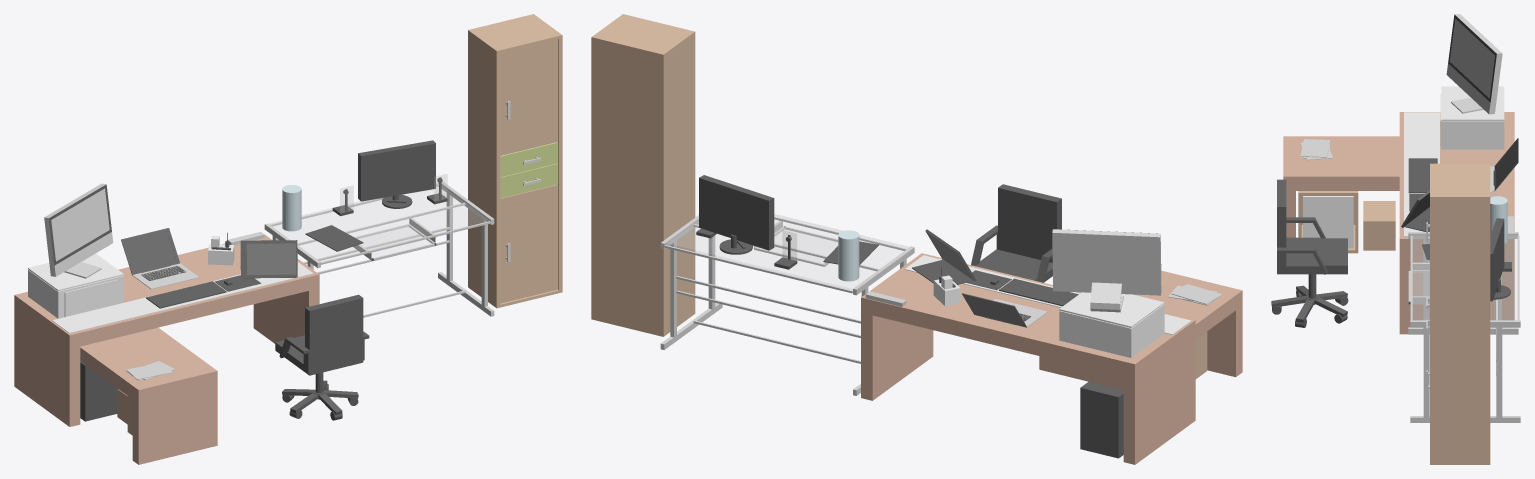
Rendered from studyroom2.glb.
The picture shows the model from 3 angles, left to right: view 1: azimuth 30°, elevation 25°; view 2: azimuth 150°, elevation 25°; view 3: azimuth 270°, elevation 25°; orthographic projection. The views are drawn at different scales.
Visible parts, largest first — view 1: Cube.078, Cube, Cube.023, Cube.008, Cube.080, Cube.001, Cube.004, Cube.003, PetitEcran, Cube.127, iMac, Cube.012 (+22 smaller); view 2: Cube.076, Cube, Cube.078, iMac, Cube.003, Cube.023, Cube.002, PetitEcran, Cube.001, Cube.127, Cube.007, Cube.016 (+15 smaller); view 3: Cube.084, Cube.001, Cube, Cube.023, iMac, Cube.002, Cube.012, Cube.069, Cube.083, Cube.128, Cube.007, Cube.017 (+22 smaller).
Part boxes in pixels (x1=…): Cube.078: x1=468, y1=31, x2=500, y2=305; Cube: x1=14, y1=234, x2=319, y2=348; Cube.023: x1=269, y1=182, x2=490, y2=262; Cube.008: x1=500, y1=184, x2=558, y2=303; Cube.080: x1=500, y1=39, x2=558, y2=155; Cube.001: x1=80, y1=327, x2=217, y2=403; Cube.004: x1=132, y1=384, x2=217, y2=464; Cube.003: x1=14, y1=309, x2=80, y2=426; PetitEcran: x1=358, y1=140, x2=435, y2=201; Cube.127: x1=305, y1=294, x2=363, y2=367; iMac: x1=44, y1=183, x2=109, y2=276; Cube.012: x1=52, y1=262, x2=313, y2=333; Cube.076: x1=595, y1=38, x2=659, y2=332; Cube: x1=861, y1=253, x2=1195, y2=379; Cube.078: x1=659, y1=35, x2=695, y2=333; iMac: x1=1052, y1=229, x2=1161, y2=295; Cube.003: x1=1123, y1=335, x2=1195, y2=464; Cube.023: x1=666, y1=214, x2=908, y2=290; Cube.002: x1=861, y1=312, x2=933, y2=400; PetitEcran: x1=699, y1=175, x2=774, y2=250; Cube.001: x1=1039, y1=270, x2=1242, y2=389; Cube.127: x1=998, y1=184, x2=1061, y2=262; Cube.007: x1=1059, y1=304, x2=1164, y2=357; Cube.016: x1=1080, y1=381, x2=1123, y2=458; Cube.084: x1=1430, y1=195, x2=1490, y2=461; Cube.001: x1=1283, y1=136, x2=1399, y2=190; Cube: x1=1399, y1=112, x2=1514, y2=253; Cube.023: x1=1410, y1=234, x2=1518, y2=319; iMac: x1=1450, y1=14, x2=1502, y2=114; Cube.002: x1=1399, y1=253, x2=1514, y2=334; Cube.012: x1=1404, y1=112, x2=1439, y2=236; Cube.069: x1=1303, y1=196, x2=1353, y2=248; Cube.083: x1=1430, y1=163, x2=1490, y2=199; Cube.128: x1=1277, y1=238, x2=1347, y2=274; Cube.007: x1=1441, y1=121, x2=1504, y2=149; Cube.017: x1=1363, y1=201, x2=1395, y2=250.
Bounding box in the file's own units: 3.86 × 1.87 × 1.58.
